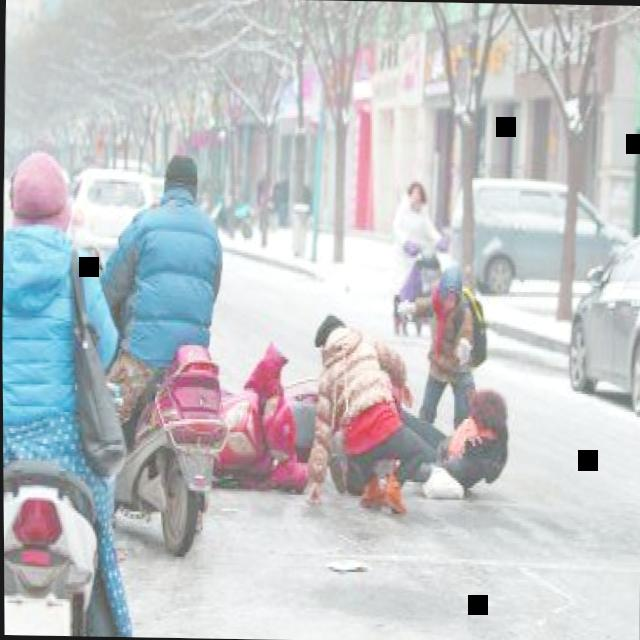Fall-Detected: (272, 306, 450, 512)
